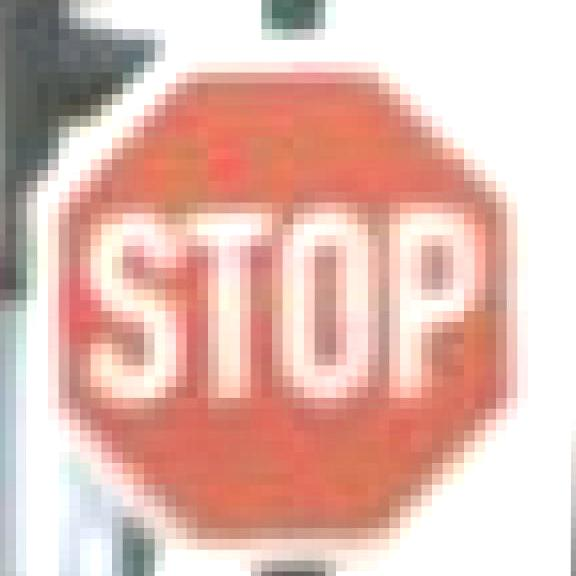stop_sign: (38, 29, 550, 561)
